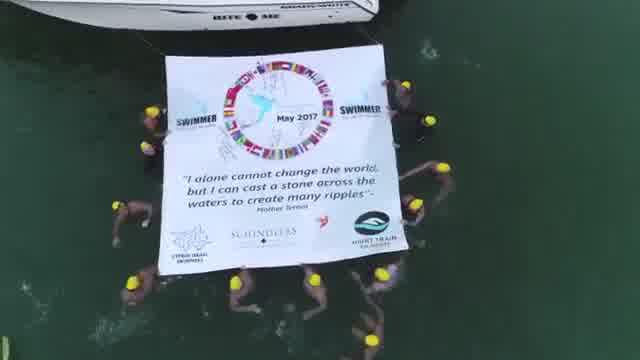swimmer: (398, 148, 464, 194), (116, 258, 170, 314), (108, 191, 156, 250), (222, 264, 268, 318), (294, 262, 333, 324), (356, 301, 388, 358), (352, 258, 400, 296), (382, 76, 420, 114), (136, 136, 167, 172), (398, 192, 426, 231), (142, 106, 170, 137)
